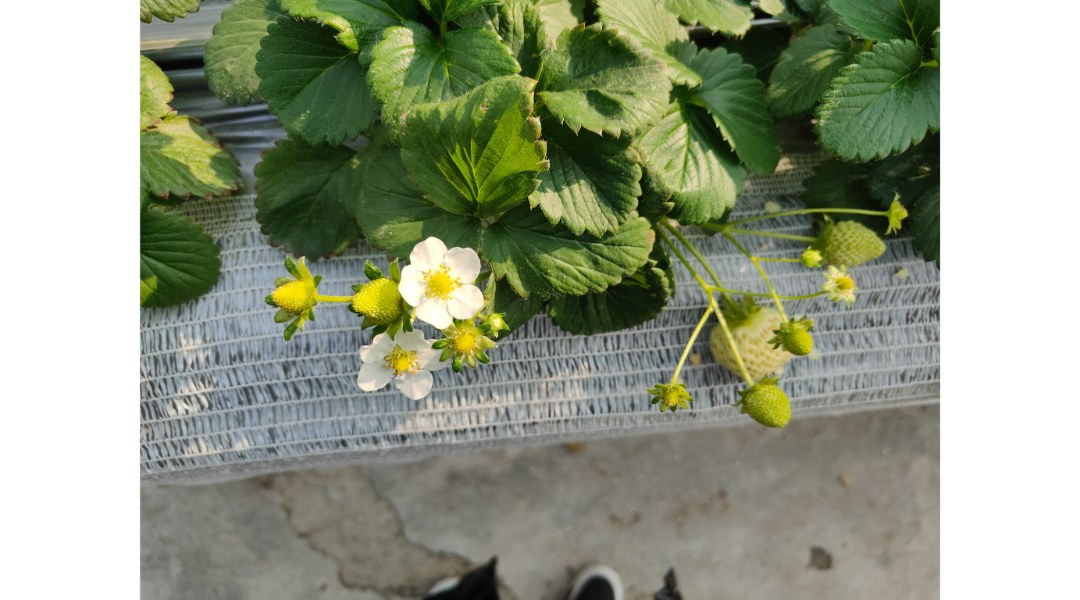berry: (702, 277, 785, 383), (254, 252, 326, 339), (339, 256, 414, 327), (731, 378, 800, 443), (820, 213, 896, 271), (650, 367, 711, 426), (763, 318, 822, 363)
flower: (394, 224, 485, 341), (349, 325, 447, 414), (820, 256, 866, 307)
strain: (713, 307, 754, 393), (652, 240, 711, 297), (739, 225, 820, 253), (669, 316, 702, 383), (673, 224, 716, 273), (725, 234, 765, 275), (739, 204, 820, 224), (758, 258, 799, 263)
